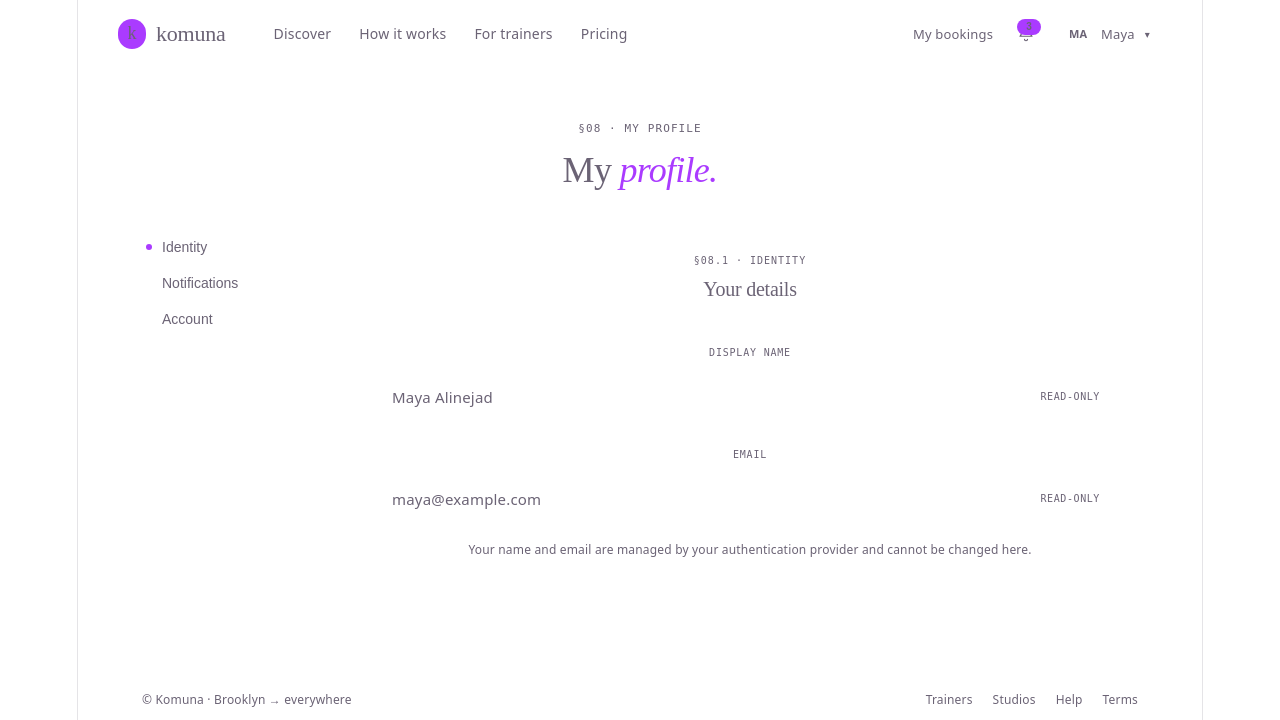
ProfilePage › clicking "Account" sidebar item shows account panel
Click the button "Account": click(224, 319) [134,302,314,336]
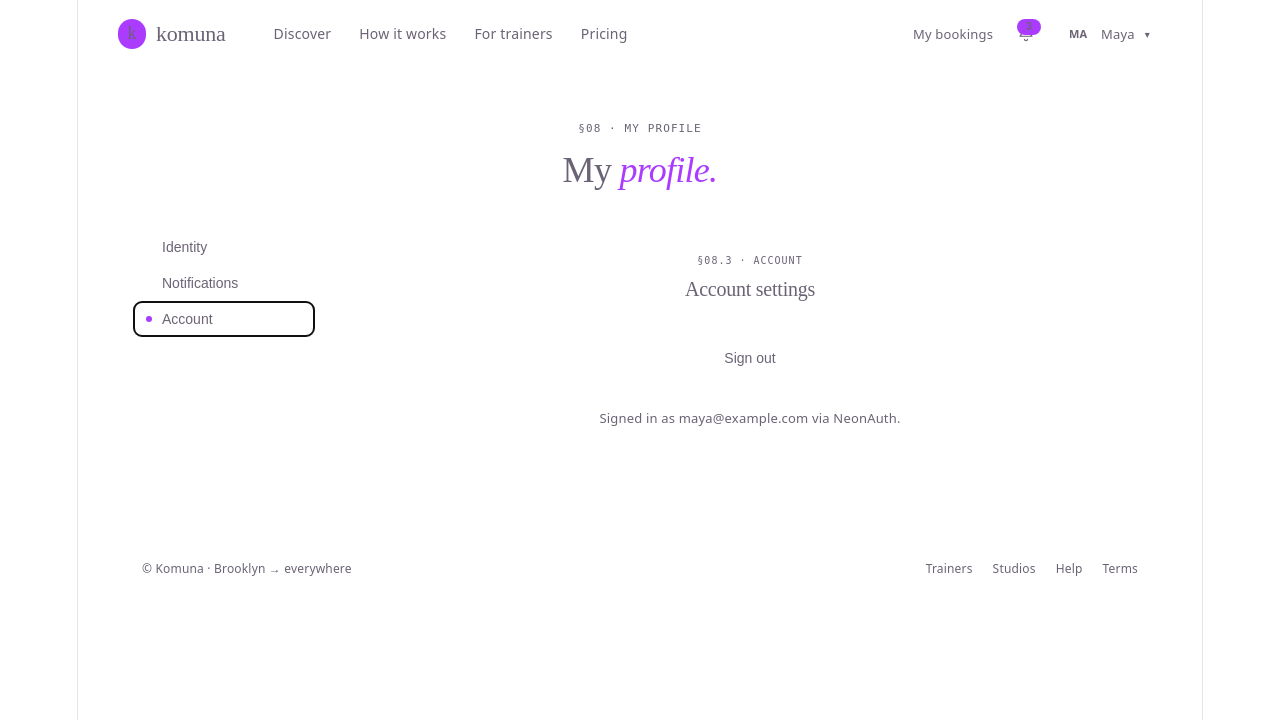
Now the heading "Account settings" is shown, box [685,278,815,300]
